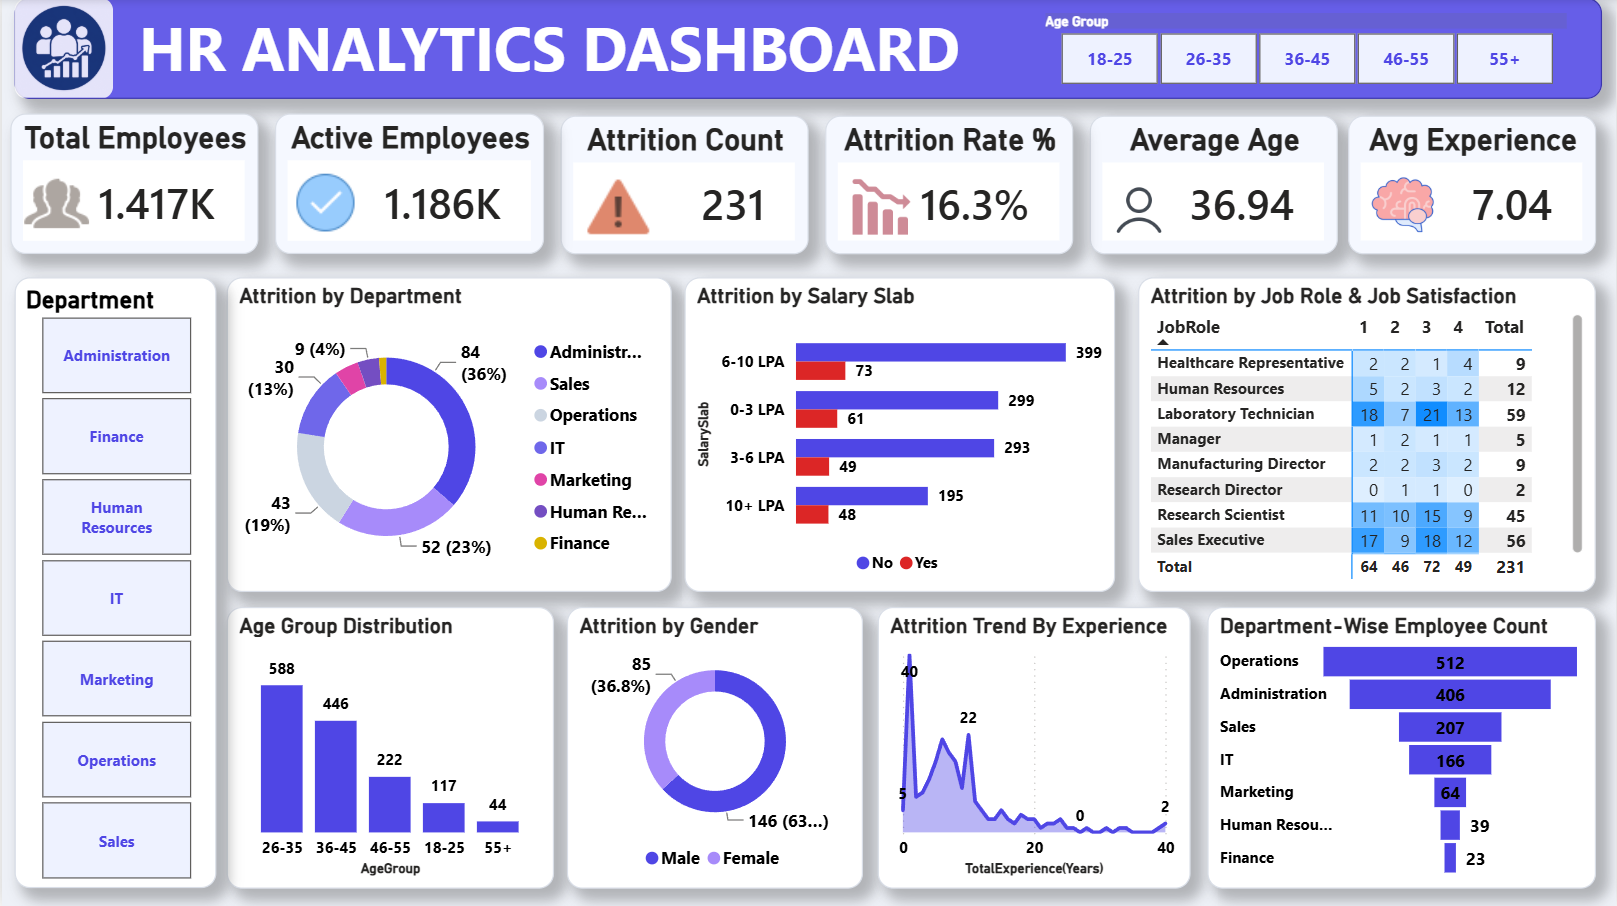

Layout of this report page (visuals, bound fields, positions):
{"tool":"powerbi","page":{"name":"HR Analytics","canvas":[1280,720],"ordinal":0},"visuals":[{"type":"textbox","box":[10,0,1258.7,79.9],"z":0},{"type":"image","box":[10,0,78.3,79.9],"z":1000},{"type":"cardVisual","title":"Total Employees","fields":{"Data":["CountNonNull(HR_Analytics_data.EmpID)"]},"box":[6.7,91.6,196.5,111.5],"z":2000},{"type":"cardVisual","title":"Attrition Count","fields":{"Data":["Sum(HR_Analytics_data.AttritionCount)"]},"box":[442.9,93.2,196.5,109.9],"z":3000},{"type":"cardVisual","title":"Average Age","fields":{"Data":["Avg(HR_Analytics_data.Age)"]},"box":[862.4,93.2,196.5,109.9],"z":4000},{"type":"cardVisual","title":"Avg Experience","fields":{"Data":["Avg(HR_Analytics_data.YearsatCompany)"]},"box":[1067.2,93.2,196.5,109.9],"z":5000},{"type":"cardVisual","title":"Active Employees","fields":{"Data":["CountNonNull(HR_Analytics_data.EmployeeCount)"]},"box":[216.4,91.6,213.1,111.5],"z":6000},{"type":"cardVisual","title":"Attrition Rate %","fields":{"Data":["HR_Analytics_data.Attrition Rate%"]},"box":[652.6,93.2,196.5,109.9],"z":7000},{"type":"image","box":[216.4,138.2,79.9,48.3],"z":8000},{"type":"image","box":[10,138.2,66.6,51.6],"z":9000},{"type":"image","box":[1082.2,138.2,56.6,51.6],"z":10000},{"type":"image","box":[664.3,133.2,59.9,64.9],"z":11000},{"type":"image","box":[860.8,138.2,81.6,56.6],"z":12000},{"type":"image","box":[437.9,133.2,101.6,64.9],"z":13000},{"type":"donutChart","title":"Attrition by Department","fields":{"Y":["Sum(HR_Analytics_data.AttritionCount)"],"Category":["HR_Analytics_data.Department"]},"box":[178.1,221.4,353,249.7],"z":14000},{"type":"clusteredBarChart","title":"Attrition by Salary Slab","fields":{"Category":["HR_Analytics_data.SalarySlab"],"Y":["CountNonNull(HR_Analytics_data.EmpID)"],"Series":["HR_Analytics_data.Attrition"]},"box":[541.1,221.4,341.3,249.7],"z":15000},{"type":"pivotTable","title":"Attrition by Job Role & Job Satisfaction","fields":{"Rows":["HR_Analytics_data.JobRole"],"Values":["Sum(HR_Analytics_data.AttritionCount)"],"Columns":["HR_Analytics_data.JobSatisfaction"]},"box":[900.7,221.4,363,249.7],"z":16000},{"type":"columnChart","title":"Age Group Distribution","fields":{"Y":["Sum(HR_Analytics_data.EmployeeCount)"],"Category":["HR_Analytics_data.AgeGroup"]},"box":[178.1,482.8,259.7,223.1],"z":17000},{"type":"donutChart","title":"Attrition by Gender","fields":{"Category":["HR_Analytics_data.Gender"],"Y":["Sum(HR_Analytics_data.AttritionCount)"]},"box":[447.9,482.8,234.8,223.1],"z":18000},{"type":"areaChart","title":"Attrition Trend By Experience","fields":{"Category":["HR_Analytics_data.TotalExperience(Years)"],"Y2":["Sum(HR_Analytics_data.AttritionCount)"]},"box":[694.3,482.8,248.1,223.1],"z":19000},{"type":"funnel","title":"Department-Wise Employee Count","fields":{"Category":["HR_Analytics_data.Department"],"Y":["CountNonNull(HR_Analytics_data.EmpID)"]},"box":[955.7,482.8,308,223.1],"z":20000},{"type":"slicer","fields":{"Values":["HR_Analytics_data.Department"]},"box":[10,221.4,159.8,484.5],"z":21000},{"type":"slicer","fields":{"Values":["HR_Analytics_data.AgeGroup"]},"box":[819.1,6.7,429.5,68.3],"z":22000}]}

Visuals, with their boxes in screenshot pixels (x1, y1, x2, y2), scaled from the page's 1280x720 canvas onto the 1617x906 screenshot:
textbox: [13,0,1603,101]
image: [13,0,112,101]
"Total Employees" cardVisual: [8,115,257,256]
"Attrition Count" cardVisual: [560,117,808,256]
"Average Age" cardVisual: [1089,117,1338,256]
"Avg Experience" cardVisual: [1348,117,1596,256]
"Active Employees" cardVisual: [273,115,543,256]
"Attrition Rate %" cardVisual: [824,117,1073,256]
image: [273,174,374,235]
image: [13,174,97,239]
image: [1367,174,1439,239]
image: [839,168,915,249]
image: [1087,174,1191,245]
image: [553,168,682,249]
"Attrition by Department" donutChart: [225,279,671,593]
"Attrition by Salary Slab" clusteredBarChart: [684,279,1115,593]
"Attrition by Job Role & Job Satisfaction" pivotTable: [1138,279,1596,593]
"Age Group Distribution" columnChart: [225,608,553,888]
"Attrition by Gender" donutChart: [566,608,862,888]
"Attrition Trend By Experience" areaChart: [877,608,1191,888]
"Department-Wise Employee Count" funnel: [1207,608,1596,888]
slicer - HR_Analytics_data.Department: [13,279,215,888]
slicer - HR_Analytics_data.AgeGroup: [1035,8,1577,94]
